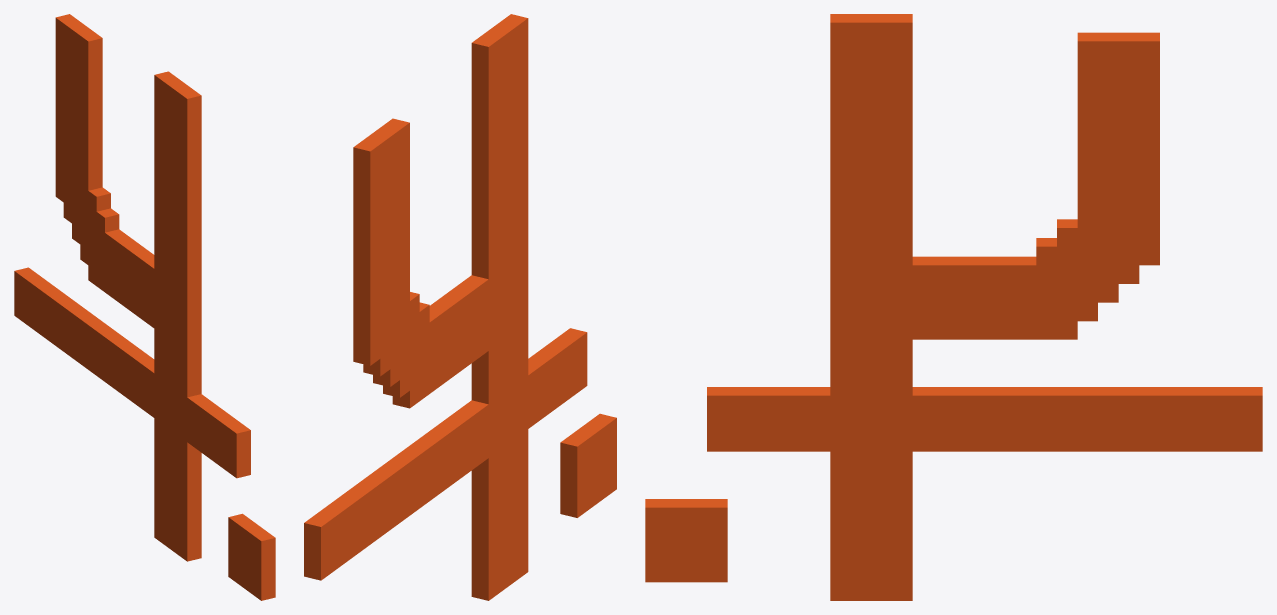
The model's file is Factory Bits-6-Rune 4.obj.
3 renders of one model, left to right at view 1: azimuth 30°, elevation 25°; view 2: azimuth 150°, elevation 25°; view 3: azimuth 270°, elevation 25°, orthographic. The views are drawn at different scales.
Parts seen in each view (by area): view 1: Rune 4; view 2: Rune 4; view 3: Rune 4.
Boxes of the visible parts, left/top/right/bottom form: Rune 4: left=14, top=14, right=275, bottom=600; Rune 4: left=304, top=14, right=616, bottom=600; Rune 4: left=645, top=14, right=1262, bottom=600.
Bounding box in the file's own units: 0.1 × 3.1 × 3.
Materials: 1 (1 with a texture image).
